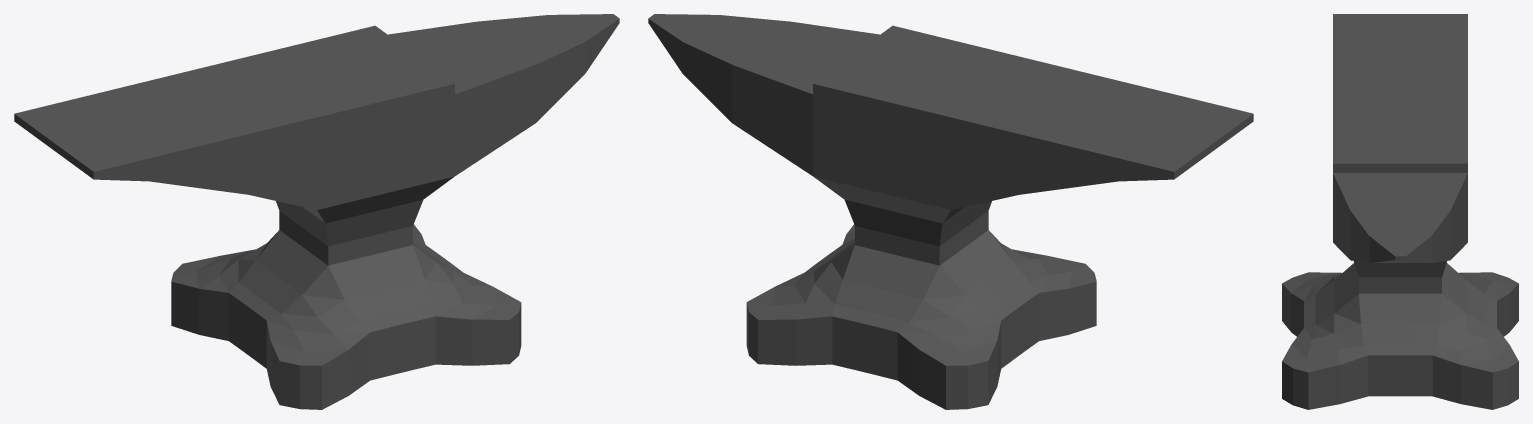
Rendered from Anvil.fbx.
3 views of the same model, side by side, from view 1: azimuth 30°, elevation 25°; view 2: azimuth 150°, elevation 25°; view 3: azimuth 270°, elevation 25° (orthographic). The views are drawn at different scales.
Visible parts, largest first — view 1: Anvil; view 2: Anvil; view 3: Anvil.
Boxes of the visible parts, <box> form: Anvil: <box>14,14,619,409</box>; Anvil: <box>648,14,1253,409</box>; Anvil: <box>1282,14,1518,409</box>.
Size of the model in its own units: 4.3 by 1.93 by 1.85.
